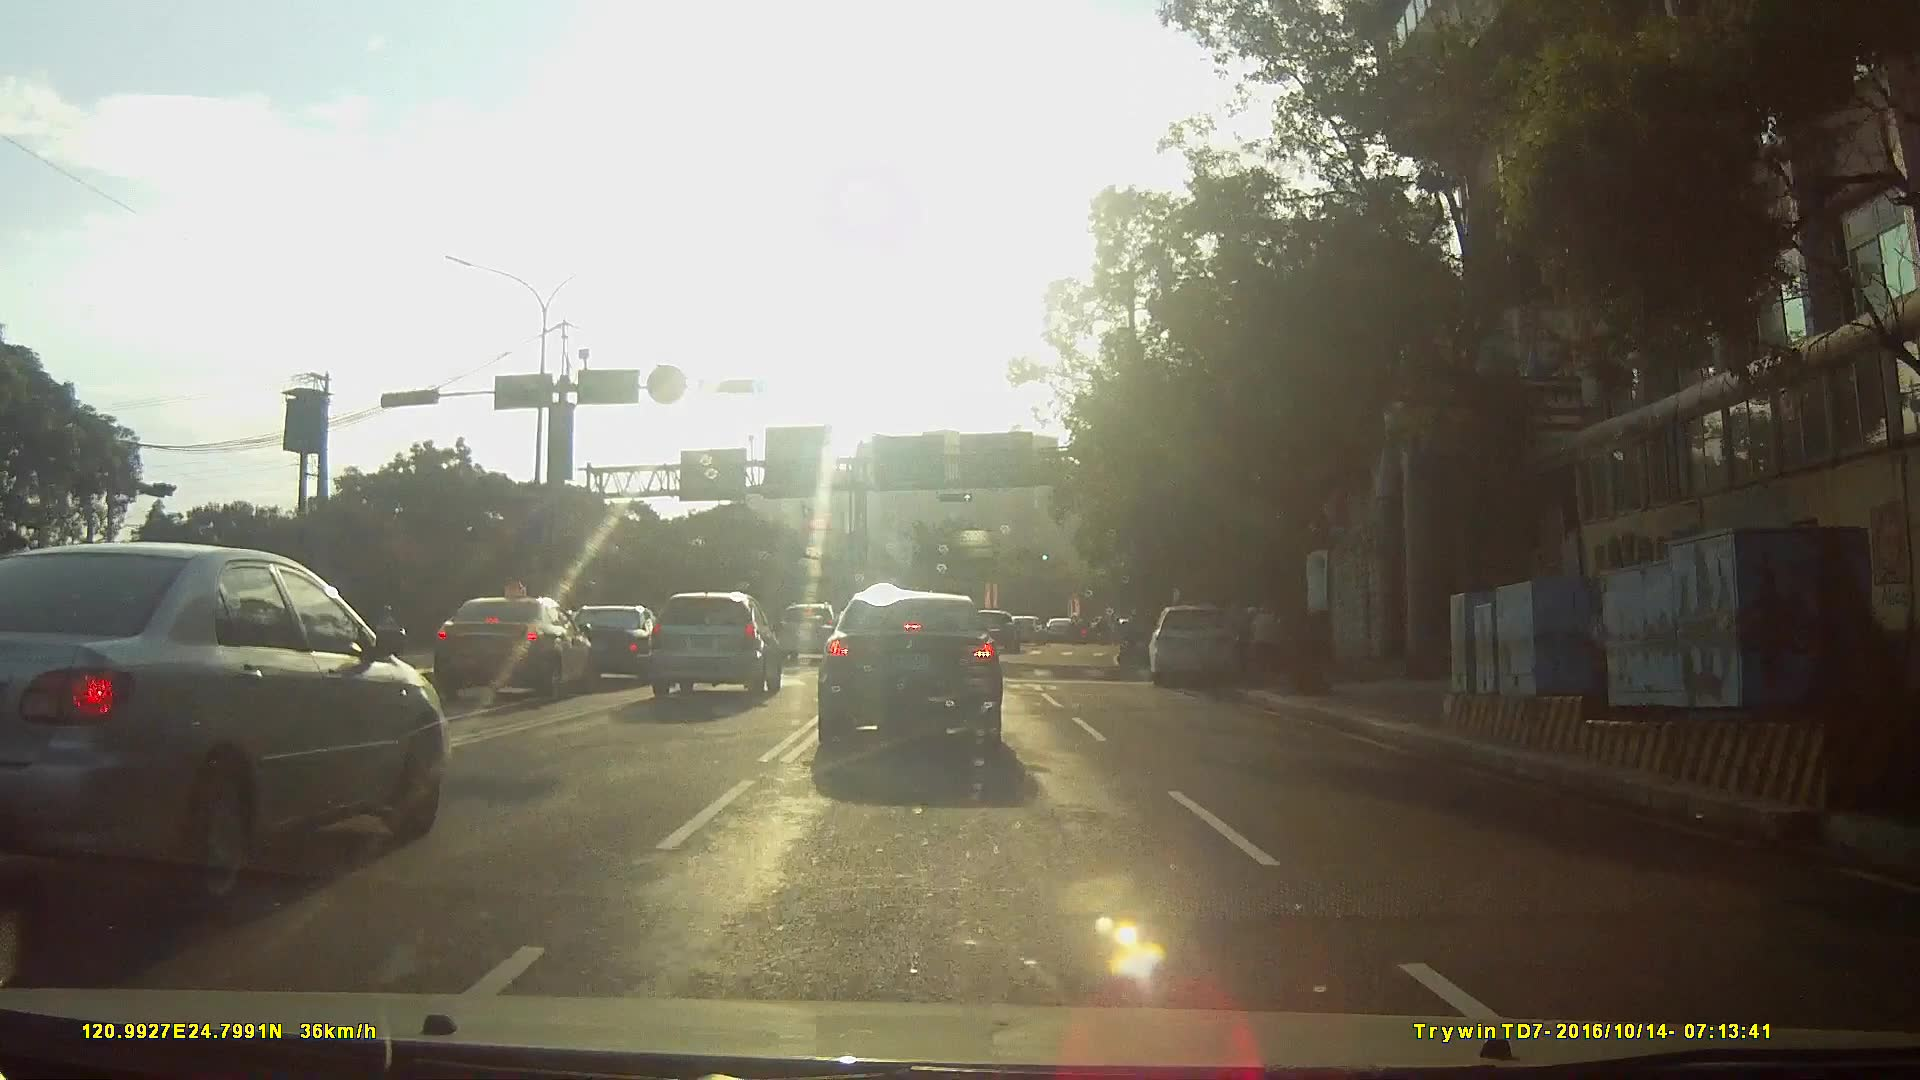pedestrian: (1247, 607, 1282, 675)
vehicle: (1, 540, 467, 910), (809, 598, 1020, 775), (404, 598, 580, 707), (644, 591, 782, 703), (1148, 603, 1256, 692), (543, 606, 658, 689), (778, 605, 846, 669), (967, 612, 1025, 658), (1010, 620, 1049, 652), (1044, 619, 1085, 647)
